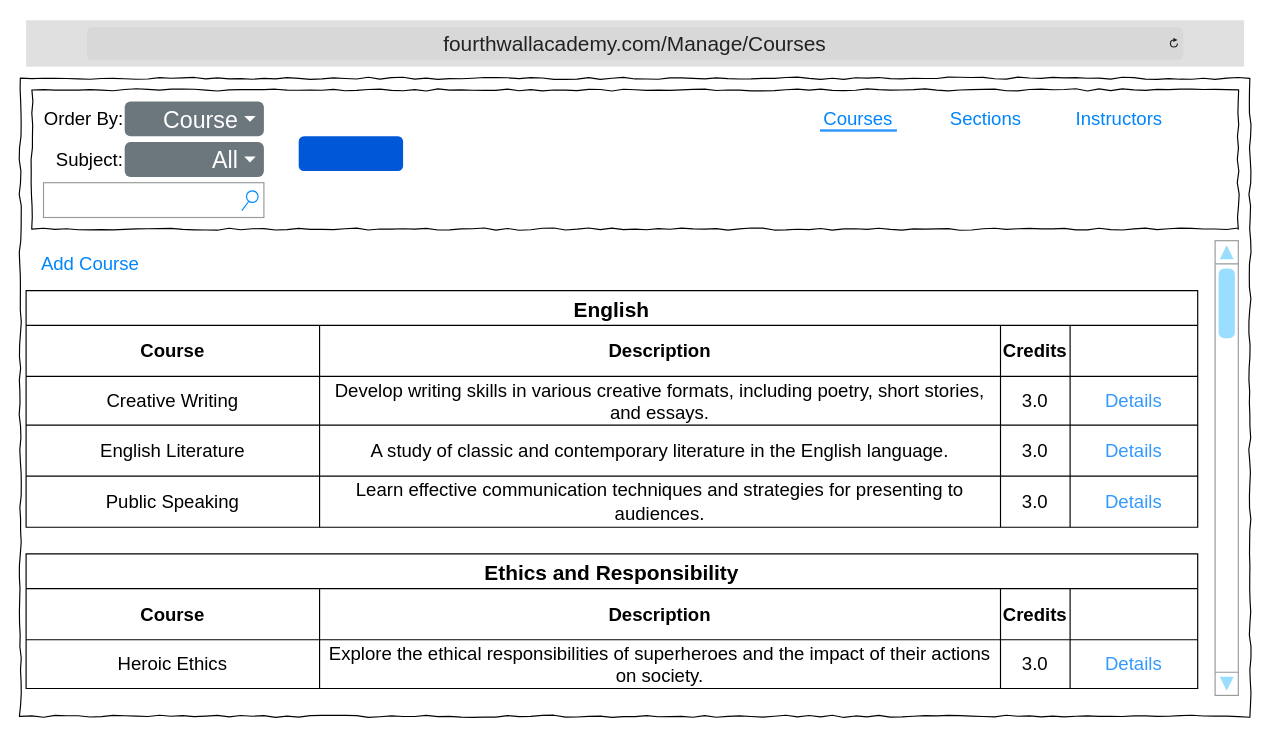
Image size: 1270x737. Some labels were removed from this diagram. The centre of each missing label's shape, as x and y in pixels:
"Apply" goes at (350,153).
"Search" goes at (153,199).
